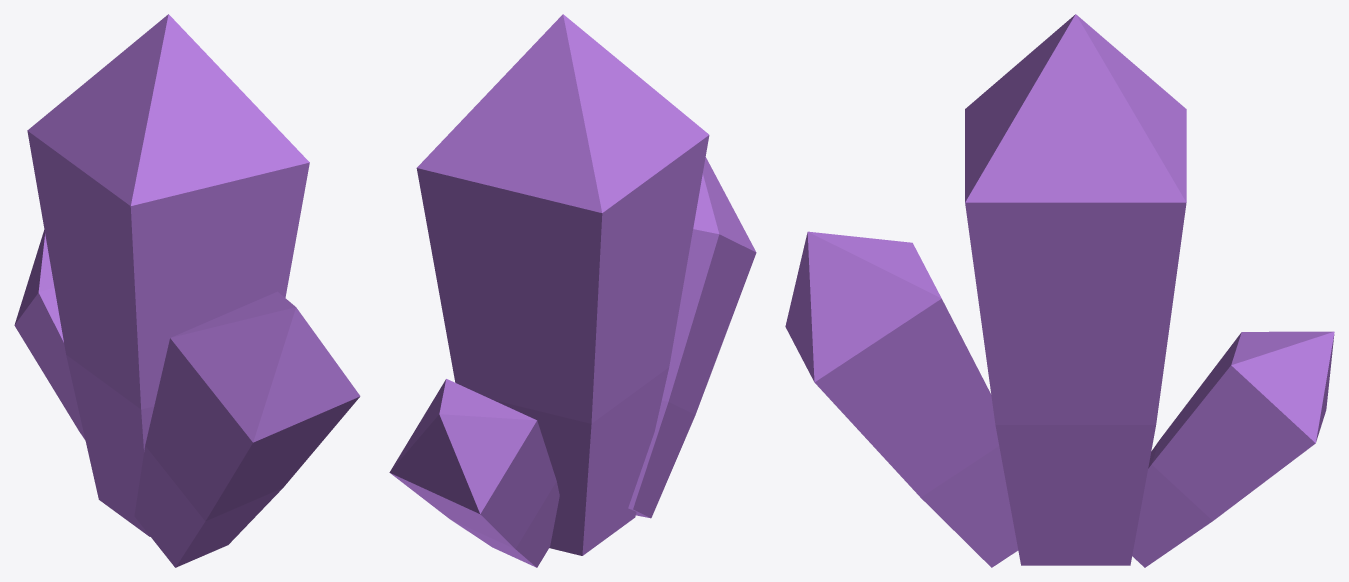
The model's file is crystalmutiple.fbx.
3 views of the same model, side by side, from view 1: azimuth 30°, elevation 25°; view 2: azimuth 150°, elevation 25°; view 3: azimuth 270°, elevation 25° (orthographic). The views are drawn at different scales.
Visible parts, largest first — view 1: Base, Base.001, Base.003; view 2: Base, Base.003, Base.001; view 3: Base, Base.001, Base.003.
Part boxes in pixels (box(x1,y1,x2,y2)): Base: box(27, 14, 309, 536); Base.001: box(134, 291, 360, 567); Base.003: box(14, 230, 85, 439); Base: box(416, 14, 709, 555); Base.003: box(389, 379, 559, 567); Base.001: box(628, 157, 756, 518); Base: box(965, 14, 1186, 565); Base.001: box(785, 231, 1018, 567); Base.003: box(1132, 331, 1334, 567).
Bounding box in the file's own units: 141 × 385 × 351.
